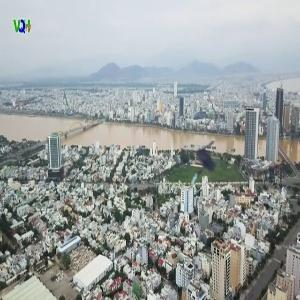drone: (159, 129, 240, 210)
